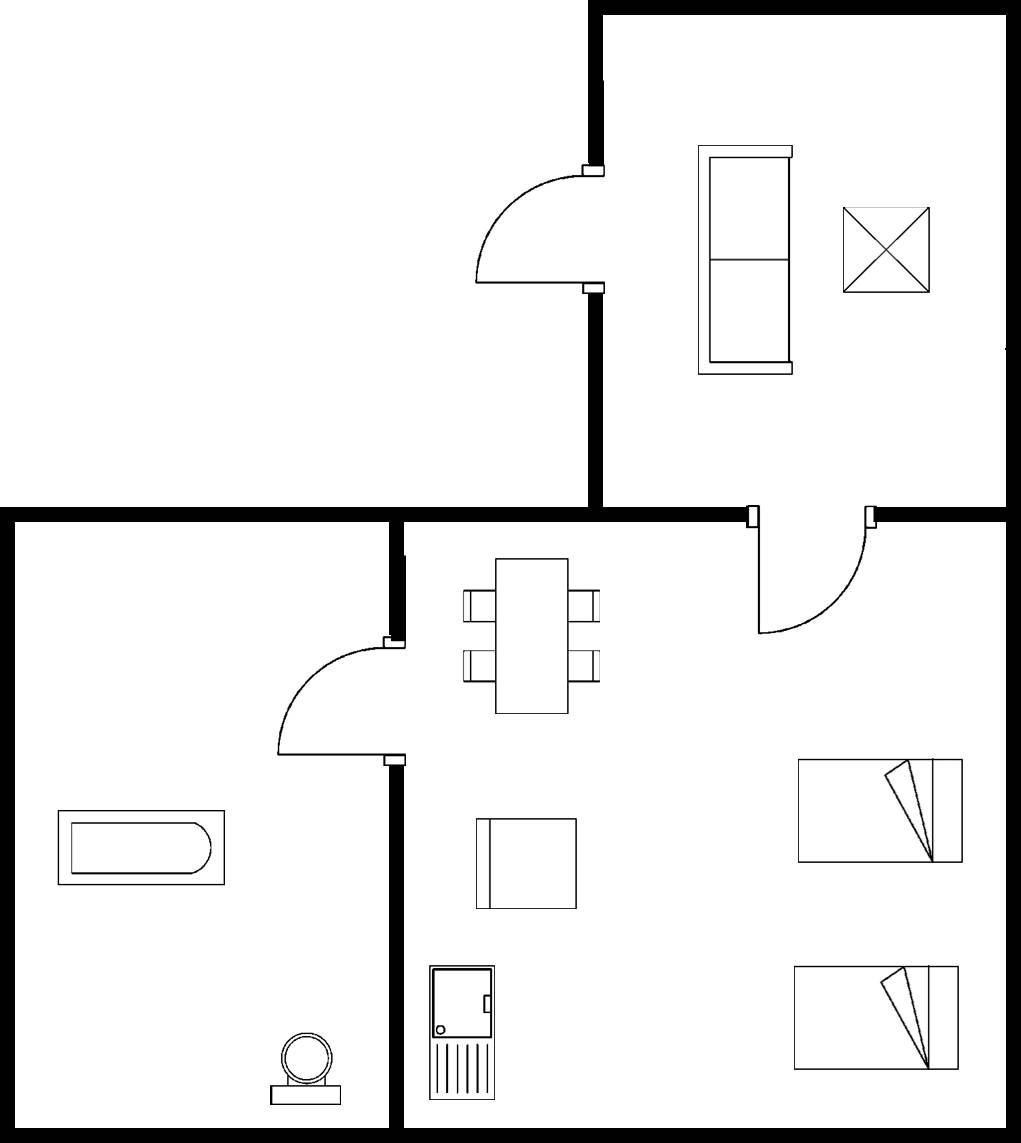bed: (793, 754, 972, 872), (788, 960, 965, 1079)
coffee_table: (836, 201, 935, 299)
dining_table: (459, 551, 608, 718)
large_sink: (265, 1028, 347, 1112)
large_sofa: (688, 136, 799, 382)
sink: (423, 958, 503, 1108)
small_sofa: (469, 812, 584, 915)
tub: (51, 802, 233, 894)
